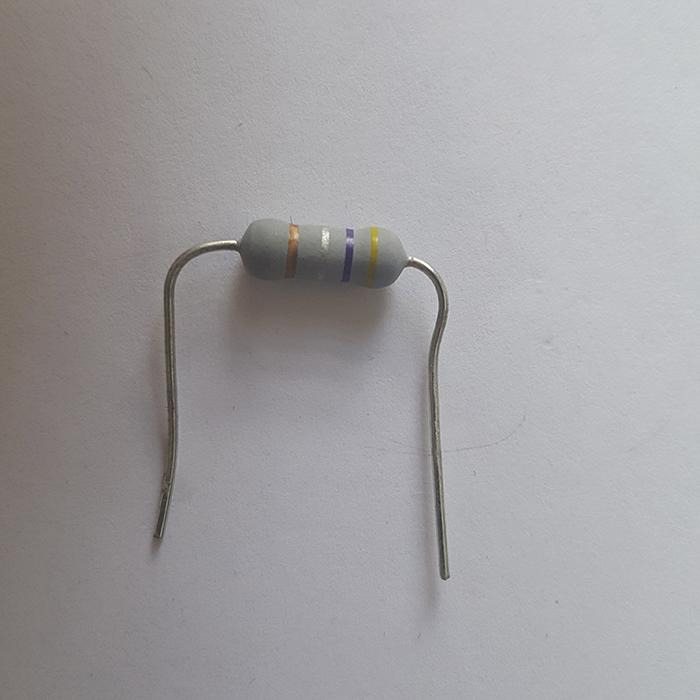resistor: (237, 217, 411, 289)
